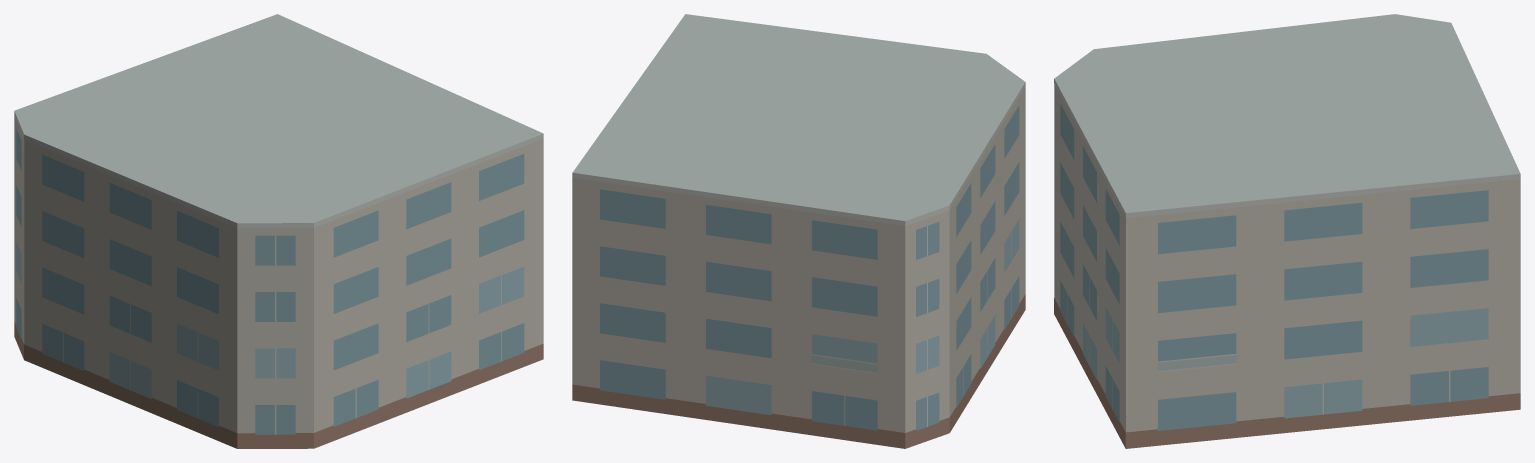
File: survey-upis-32974274.glb
3 renders of one model, left to right at view 1: azimuth 30°, elevation 25°; view 2: azimuth 150°, elevation 25°; view 3: azimuth 270°, elevation 25°, orthographic. The views are drawn at different scales.
Parts seen in each view (by area): view 1: survey-upis-32974274.tmp; view 2: survey-upis-32974274.tmp; view 3: survey-upis-32974274.tmp.
Part boxes in pixels (x1,y1,x2,y2): survey-upis-32974274.tmp: [14, 14, 543, 448]; survey-upis-32974274.tmp: [572, 14, 1025, 448]; survey-upis-32974274.tmp: [1054, 14, 1520, 448].
Size of the model in its own units: 20.12 by 11.1 by 19.92.
